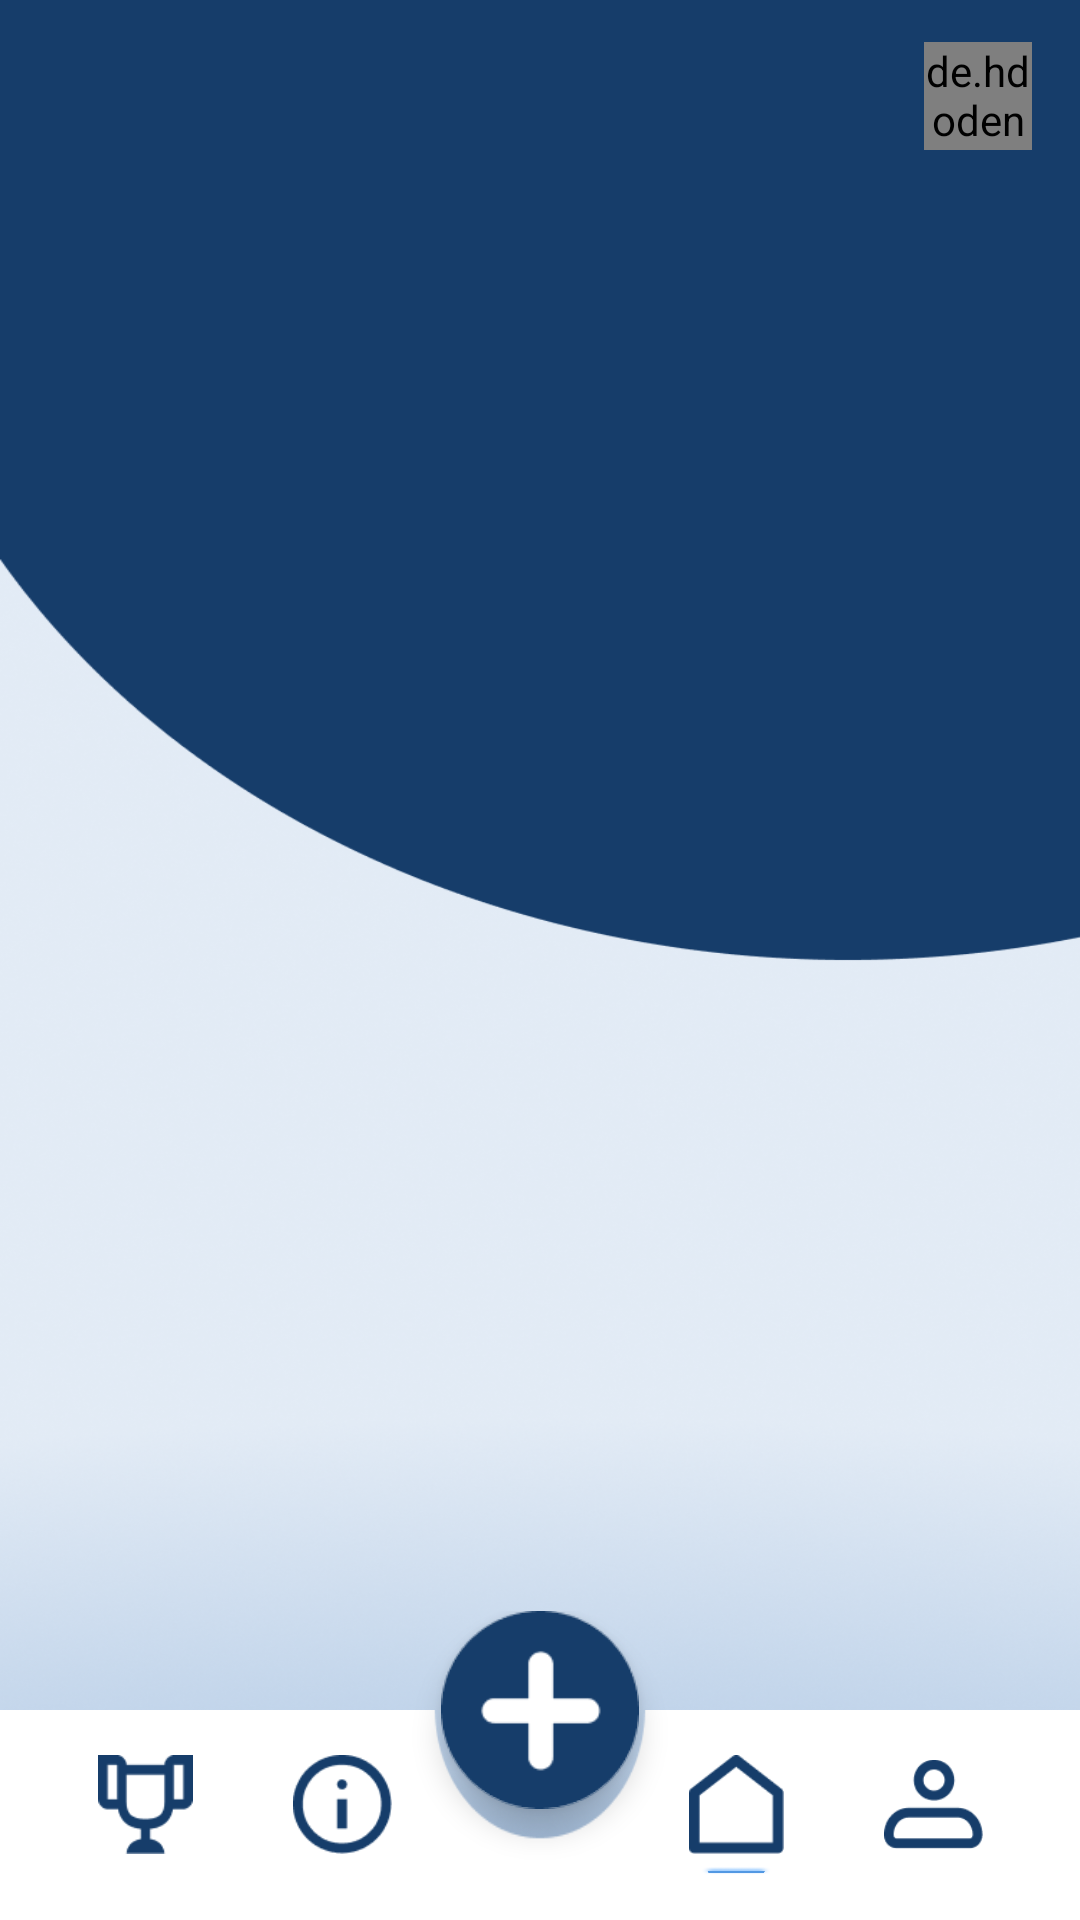

Icon click points for this 1080px x 1920px phone screenshot, format [x,y]:
Achievements: [145,1804]
Add Device: [540,1710]
Home: [736,1804]
Profile: [933,1804]
